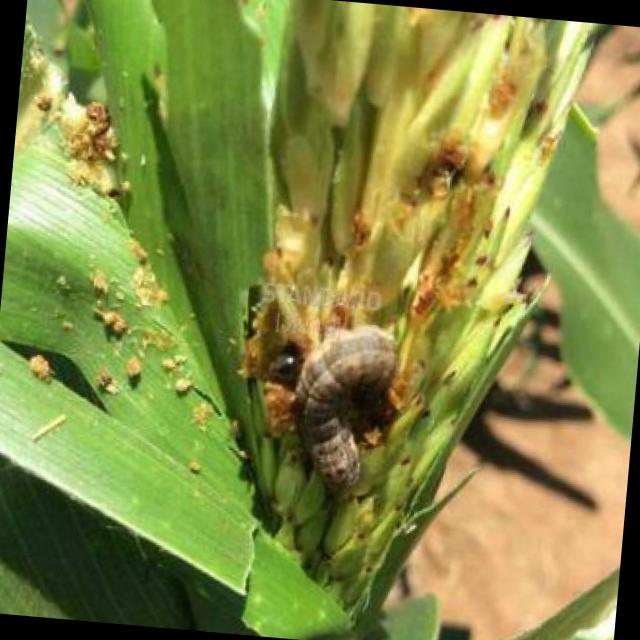pest: (291, 325, 397, 491)
